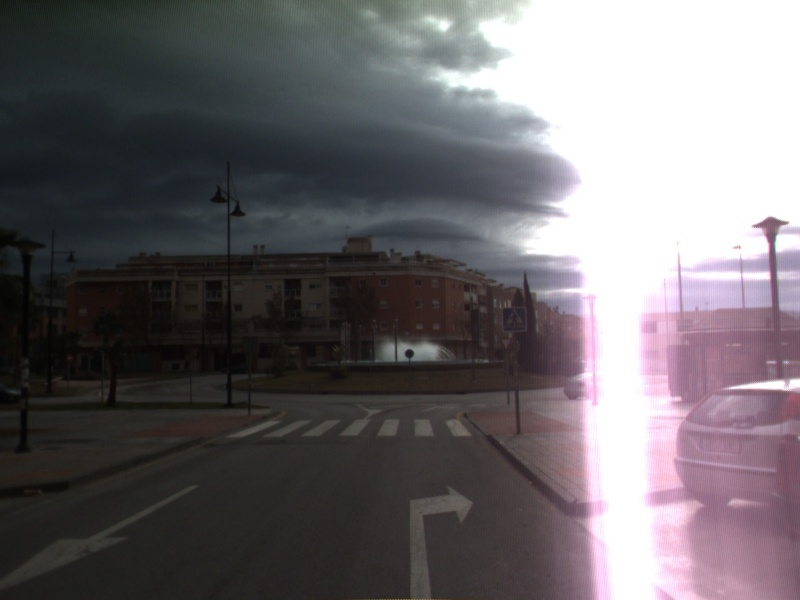RIGHT: (404, 482, 476, 600)
